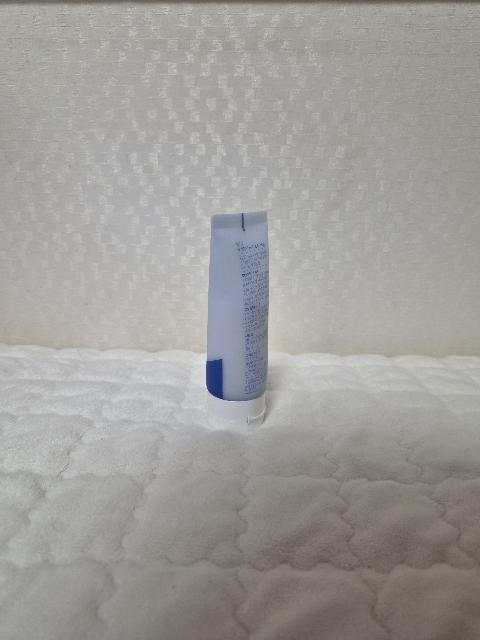handcream: (206, 210, 269, 433)
